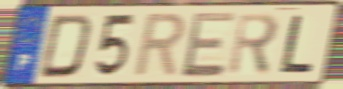5: (92, 12, 140, 80)
D: (36, 12, 95, 81)
E: (179, 10, 238, 80)
L: (277, 13, 316, 75)
R: (130, 11, 188, 81), (225, 12, 281, 78)
